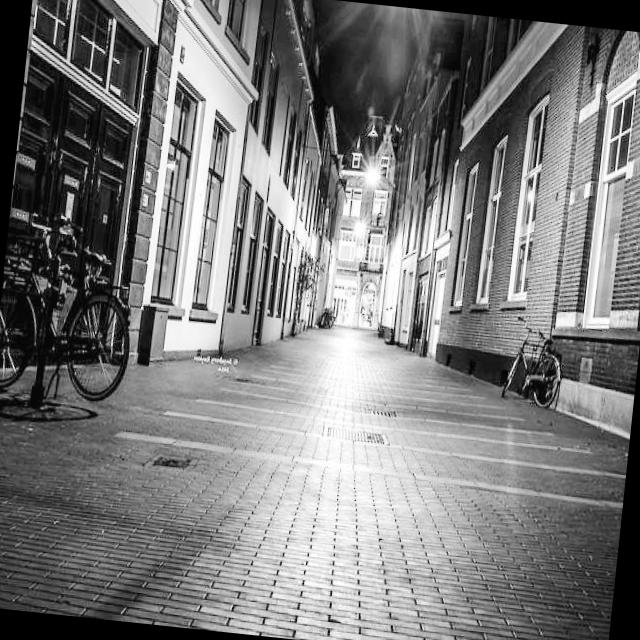Bicycle: (0, 166, 158, 447), (489, 317, 600, 436)
